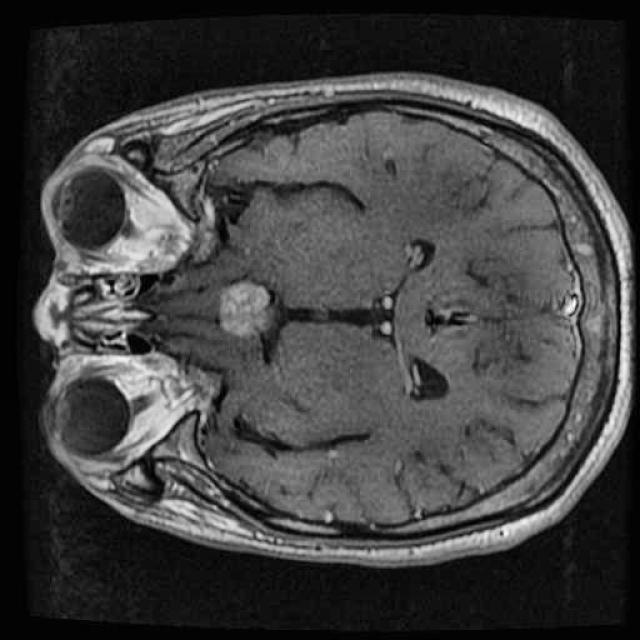Tumor: (205, 268, 280, 349)
